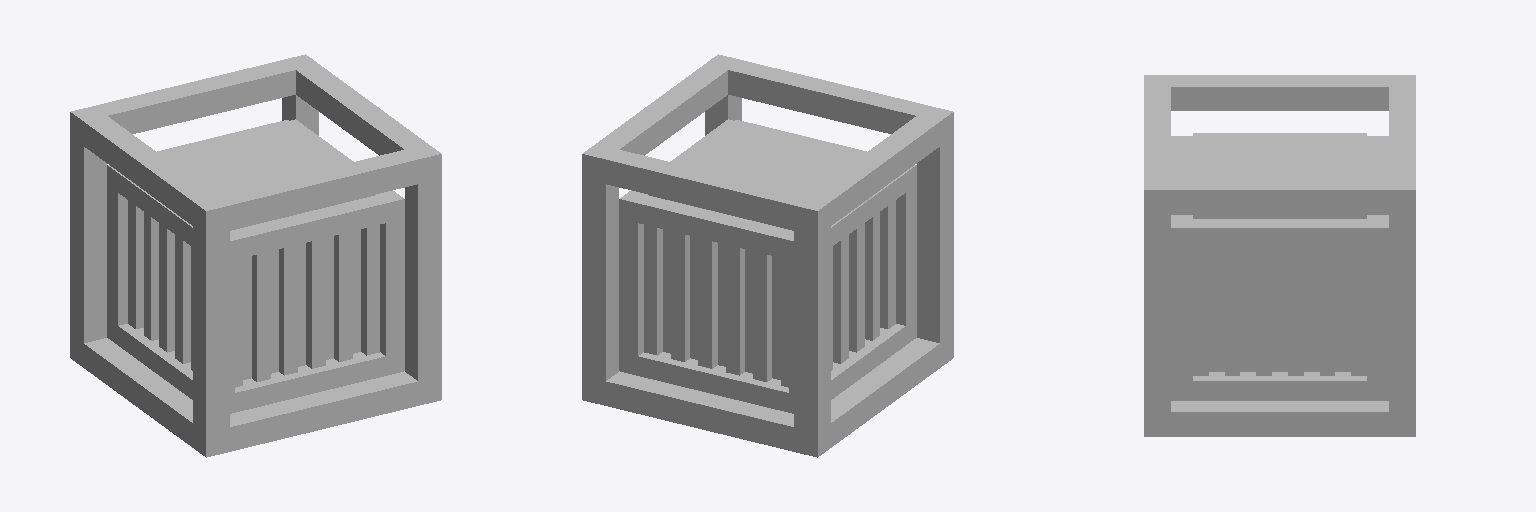
Rendered from Hologram.obj.
3 views of the same model, side by side, from view 1: azimuth 30°, elevation 25°; view 2: azimuth 150°, elevation 25°; view 3: azimuth 270°, elevation 25° (orthographic).
Parts seen in each view (by area): view 1: Cube; view 2: Cube; view 3: Cube.
Boxes of the visible parts, <box> form: Cube: <box>70,54,441,457</box>; Cube: <box>582,54,953,457</box>; Cube: <box>1144,75,1415,436</box>.
Size of the model in its own units: 1 by 1 by 1.